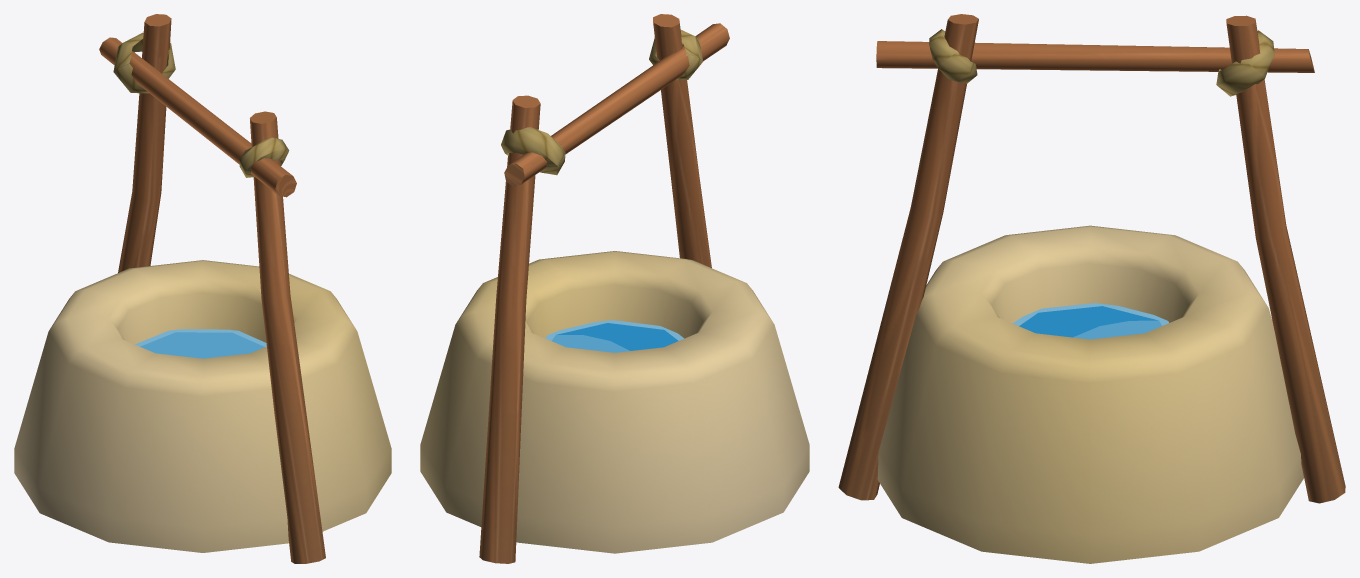
Rendered from DesertWell-03.fbx.
3 views of the same model, side by side, from view 1: azimuth 30°, elevation 25°; view 2: azimuth 150°, elevation 25°; view 3: azimuth 270°, elevation 25° (orthographic). The views are drawn at different scales.
Visible parts, largest first — view 1: Desert well -03; view 2: Desert well -03; view 3: Desert well -03.
Part boxes in pixels (left/top/right/bottom): Desert well -03: left=14, top=14, right=391, bottom=563; Desert well -03: left=420, top=14, right=809, bottom=563; Desert well -03: left=838, top=14, right=1345, bottom=563.
Size of the model in its own units: 0.977 by 1.2 by 1.14.
